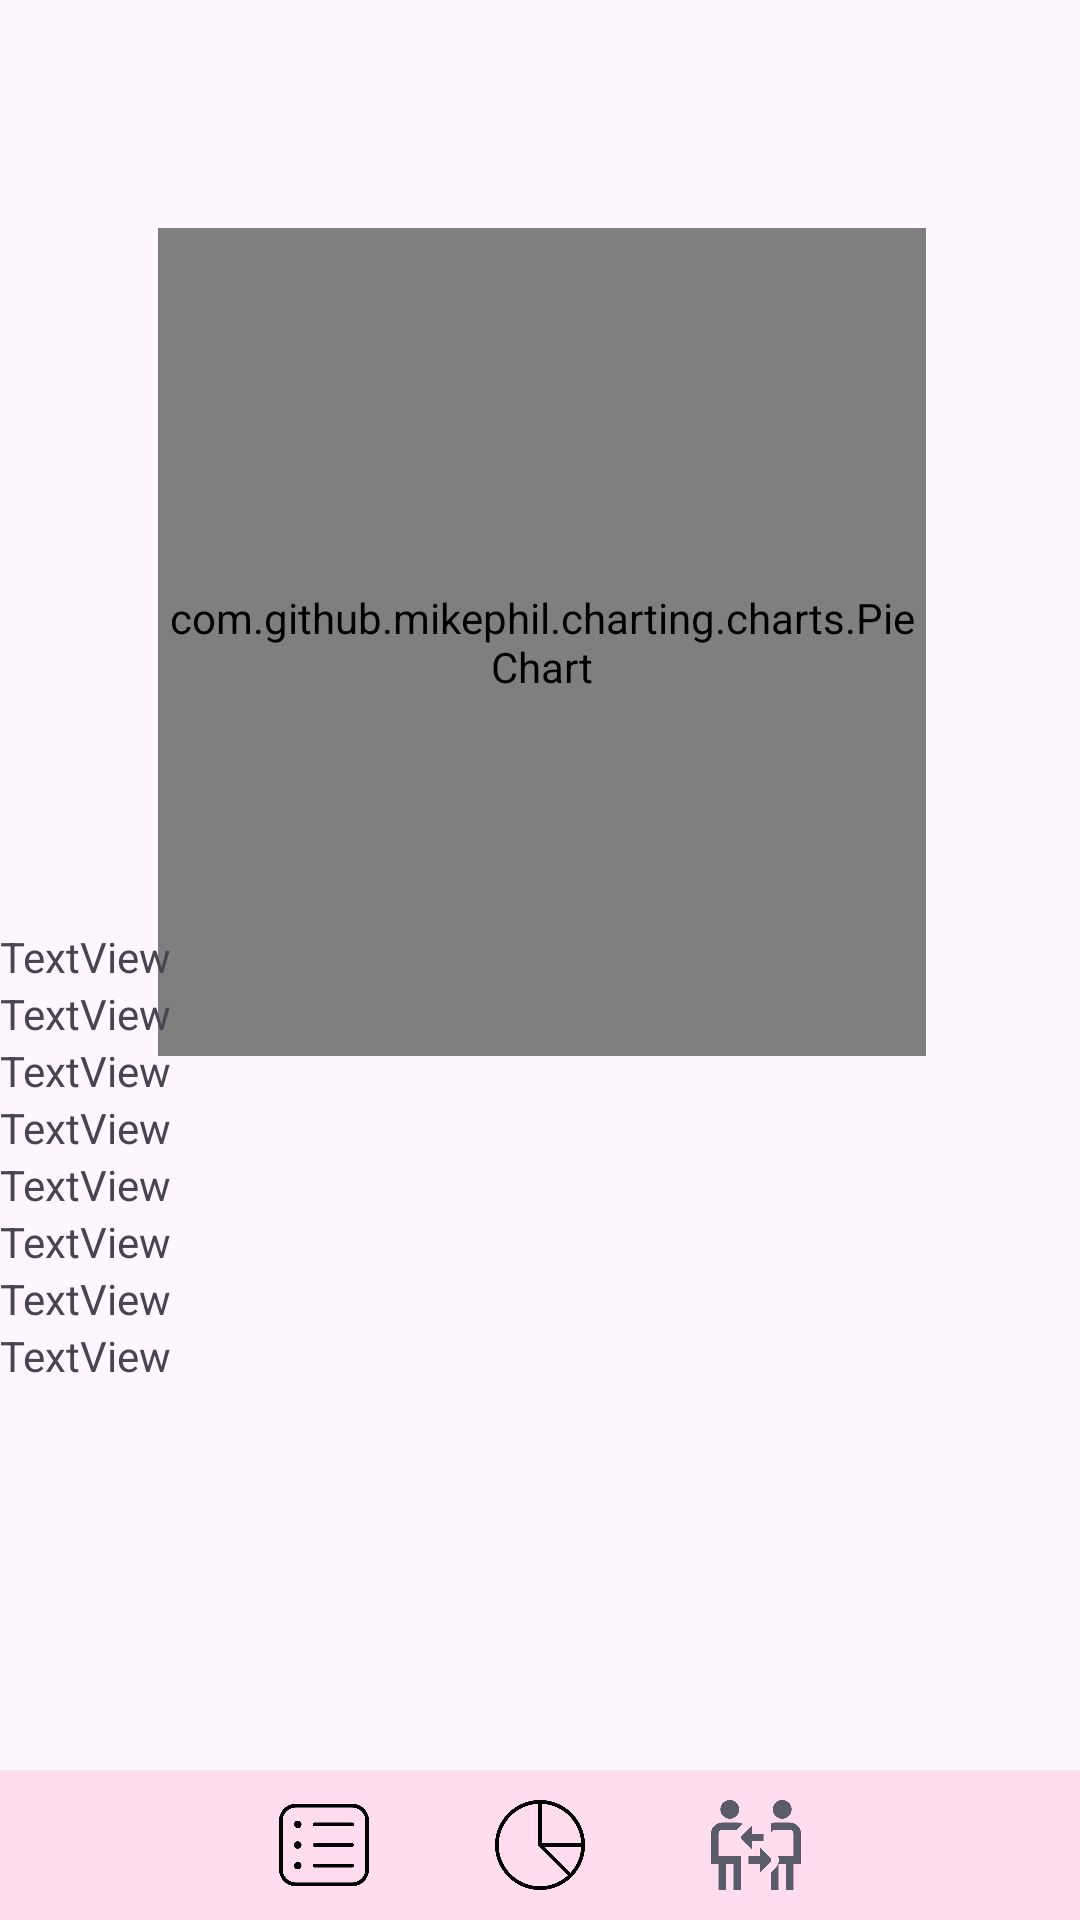

Named icons in this screenshot (1080 x 1920) and their bounding boxes, (x1, y1, x2, y2):
chart: (495, 1800, 585, 1890)
social: (711, 1800, 801, 1890)
